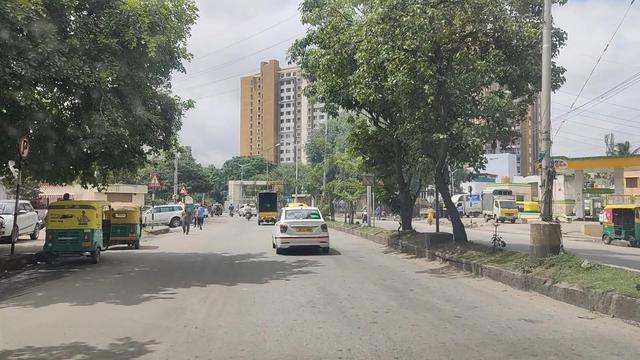LMV: (45, 203, 104, 264)
